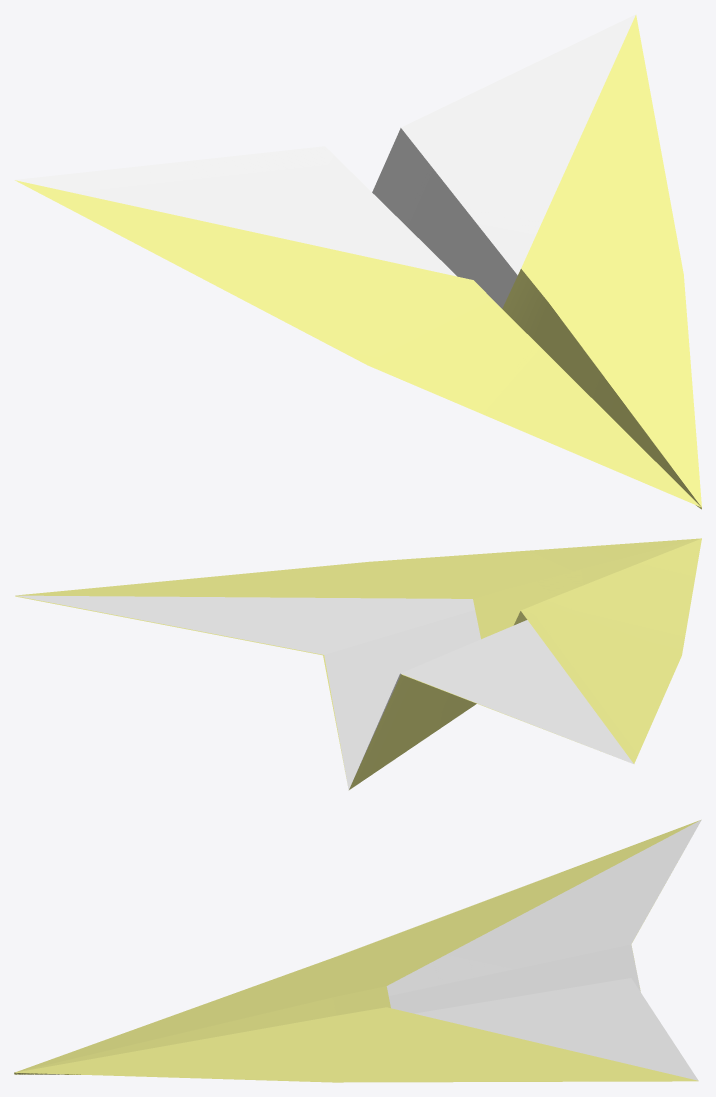
Rendered from paper_airplane.glb.
The picture shows the model from 3 angles, top to bottom: view 1: azimuth 30°, elevation 25°; view 2: azimuth 150°, elevation 25°; view 3: azimuth 270°, elevation 25°; orthographic projection. The views are drawn at different scales.
Parts seen in each view (by area): view 1: PaperAirplane; view 2: PaperAirplane; view 3: PaperAirplane.
Boxes of the visible parts, x1=… form: PaperAirplane: x1=14, y1=14, x2=701, y2=509; PaperAirplane: x1=15, y1=538, x2=701, y2=790; PaperAirplane: x1=14, y1=819, x2=701, y2=1082.
Size of the model in its own units: 15 by 3.36 by 15.82.
